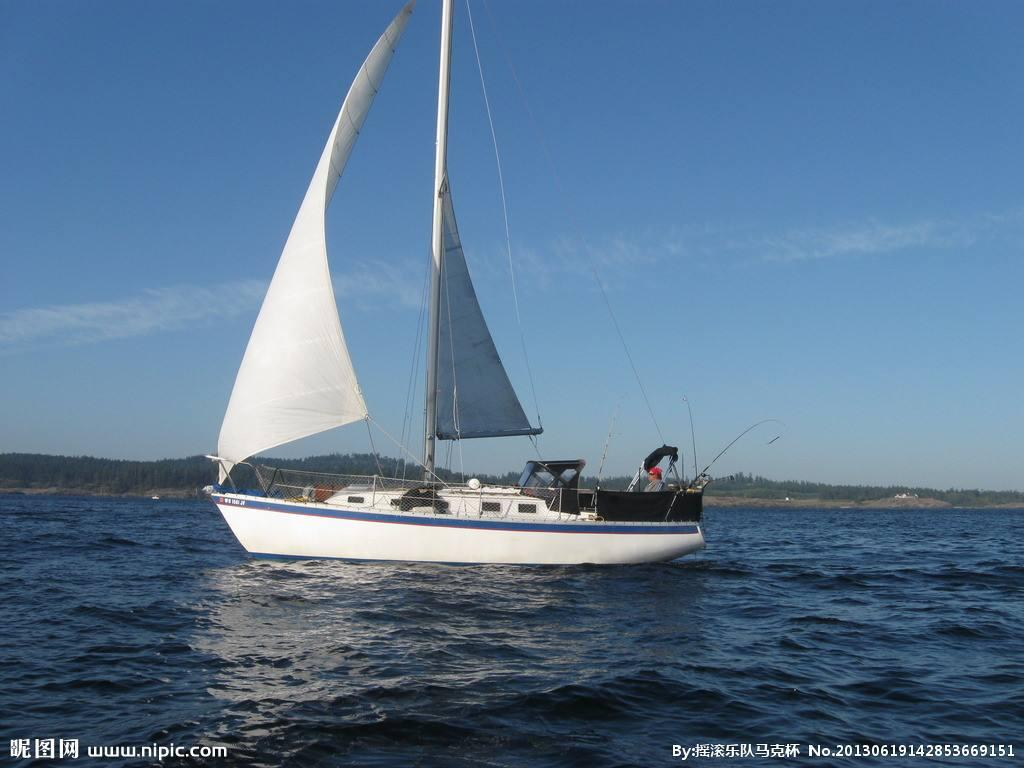fanchuan: (208, 1, 713, 560)
